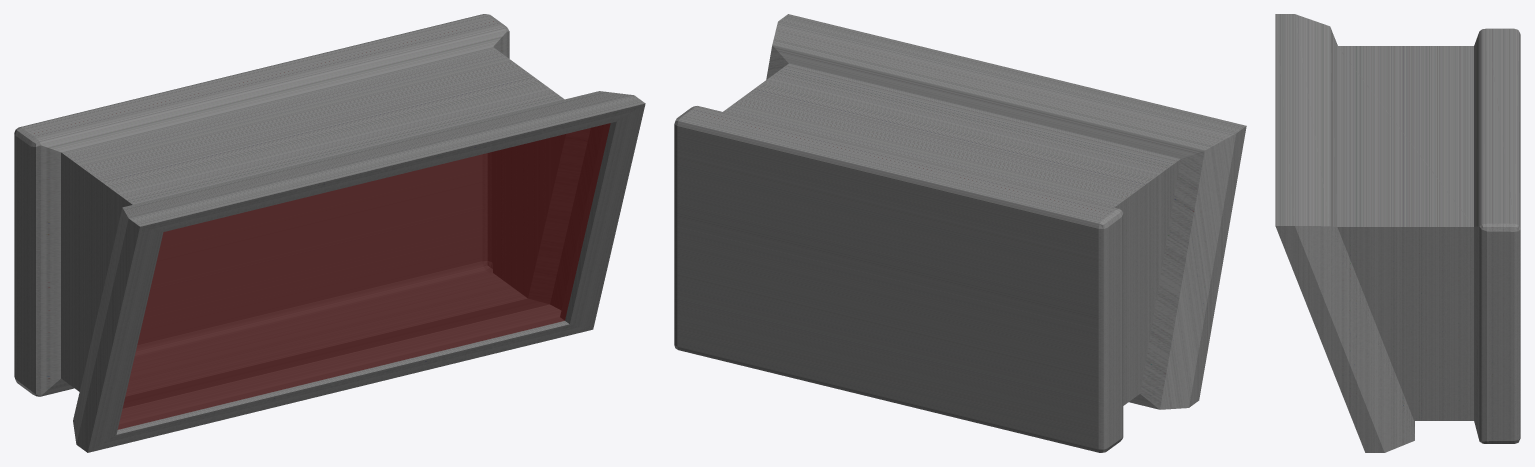
File: timer.fbx
3 views of the same model, side by side, from view 1: azimuth 30°, elevation 25°; view 2: azimuth 150°, elevation 25°; view 3: azimuth 270°, elevation 25° (orthographic). The views are drawn at different scales.
Visible parts, largest first — view 1: pCube1; view 2: pCube1; view 3: pCube1.
Boxes of the visible parts, x1,y1,x2,y2 form: pCube1: (14, 14, 645, 452); pCube1: (674, 14, 1246, 452); pCube1: (1275, 14, 1520, 452).
Bounding box in the file's own units: 3.18 × 1.59 × 1.56.
